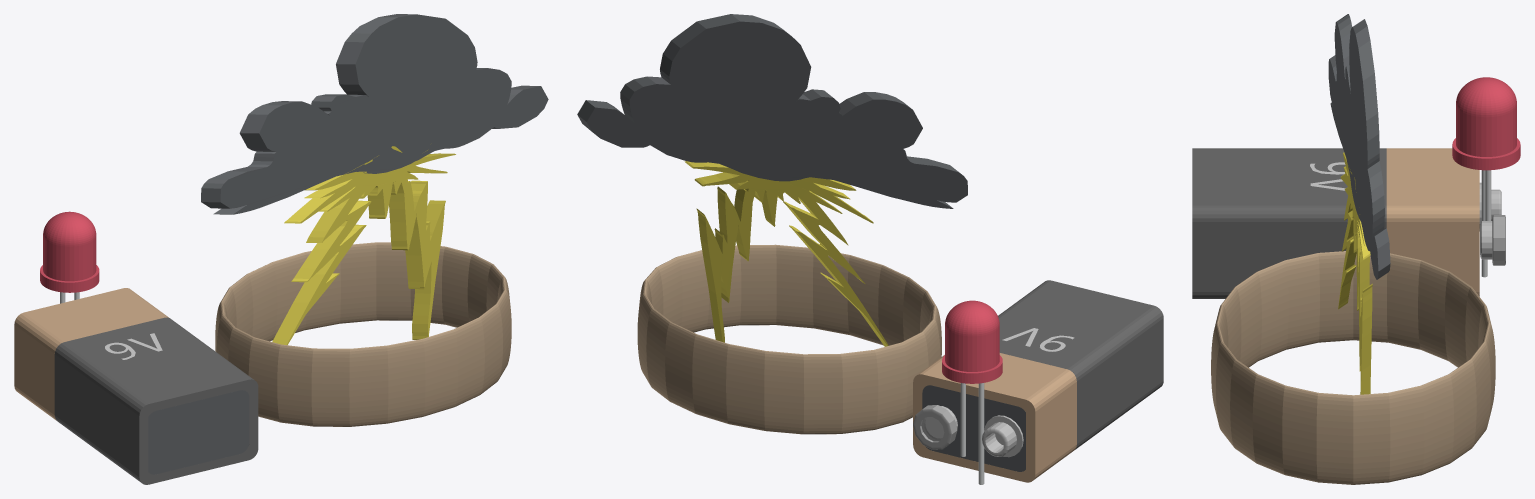
The model's file is asset.glb.
3 views of the same model, side by side, from view 1: azimuth 30°, elevation 25°; view 2: azimuth 150°, elevation 25°; view 3: azimuth 270°, elevation 25° (orthographic). The views are drawn at different scales.
Visible parts, largest first — view 1: Mesh_Mesh_head_geo.001_lambert2SG.001; view 2: Mesh_Mesh_head_geo.001_lambert2SG.001; view 3: Mesh_Mesh_head_geo.001_lambert2SG.001.
Part boxes in pixels (box(x1,y1,x2,y2)): Mesh_Mesh_head_geo.001_lambert2SG.001: box(14, 14, 548, 484); Mesh_Mesh_head_geo.001_lambert2SG.001: box(577, 14, 1163, 484); Mesh_Mesh_head_geo.001_lambert2SG.001: box(1192, 14, 1520, 484).
Size of the model in its own units: 105 by 71 by 53.
